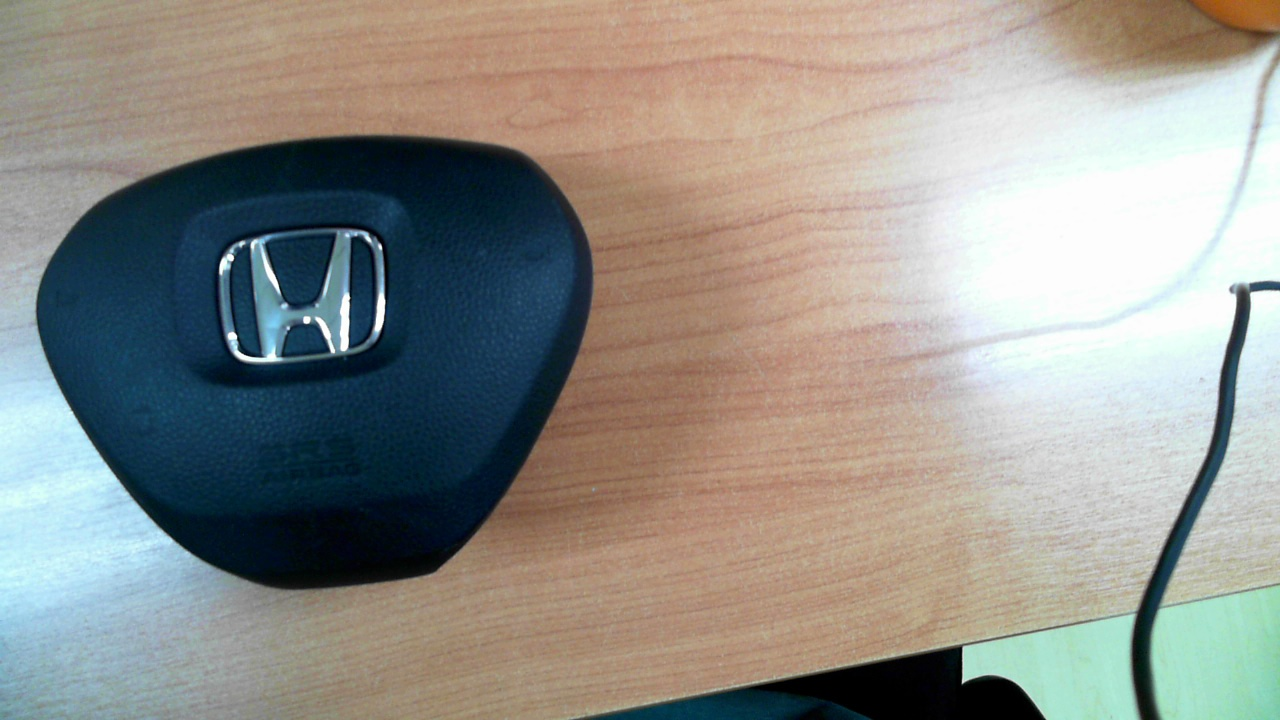Airbag: (34, 134, 593, 592)
Honda: (219, 227, 387, 363)
